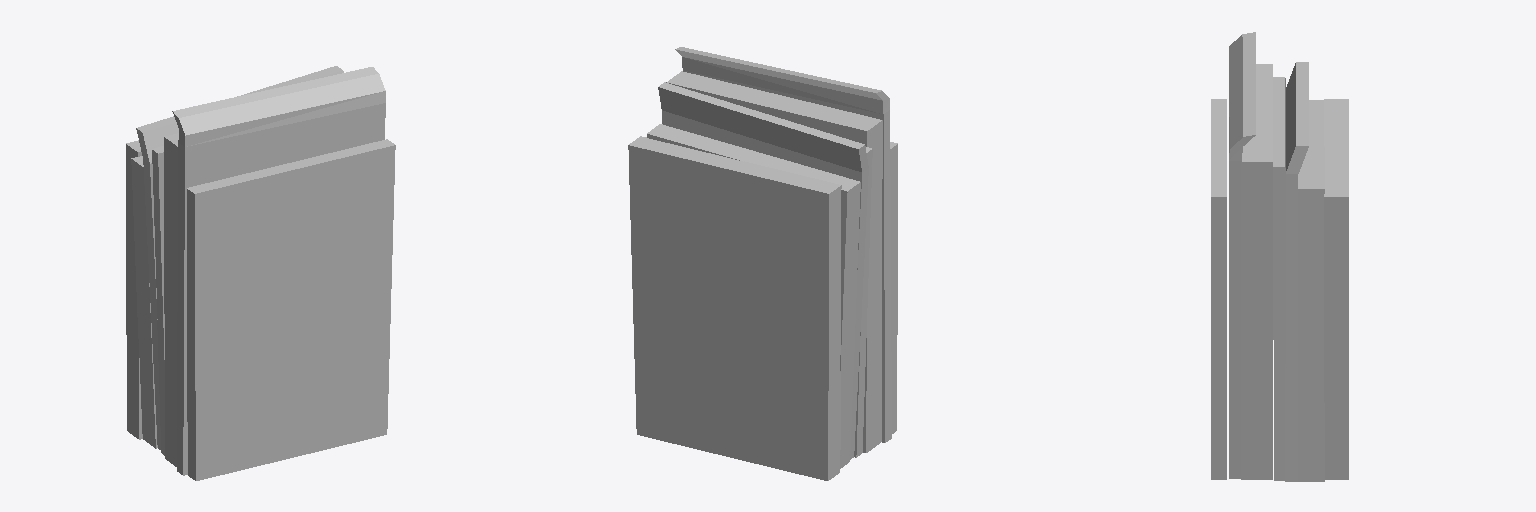
Rendered from Office_Files_F.obj.
The picture shows the model from 3 angles: view 1: azimuth 30°, elevation 25°; view 2: azimuth 150°, elevation 25°; view 3: azimuth 270°, elevation 25°; orthographic projection.
Visible parts, largest first — view 1: Office_Files_F; view 2: Office_Files_F; view 3: Office_Files_F.
Part boxes in pixels (x1,y1,x2,y2): Office_Files_F: (126,66,395,480); Office_Files_F: (628,47,897,480); Office_Files_F: (1211,32,1348,481).
Size of the model in its own units: 0.2448 by 0.3938 by 0.139.